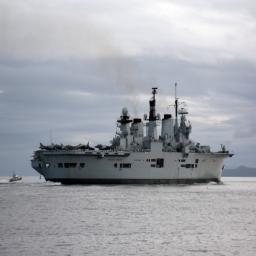Portanaves: (30, 81, 237, 188)
